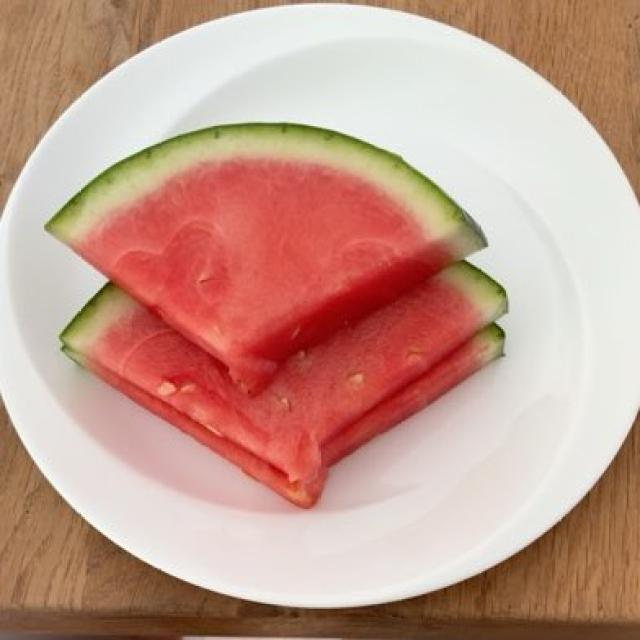watermelon-fresh: (53, 127, 516, 502)
